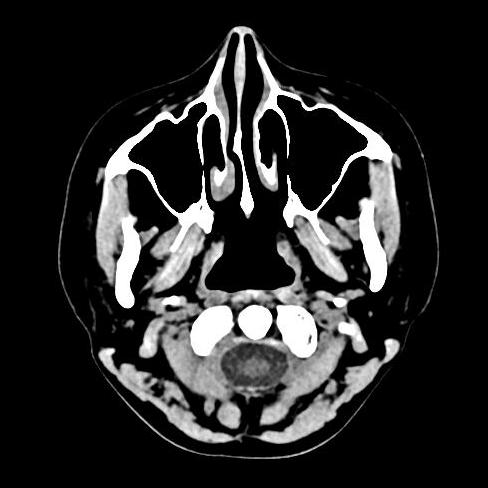Normal_Brain: (1, 12, 464, 488)
